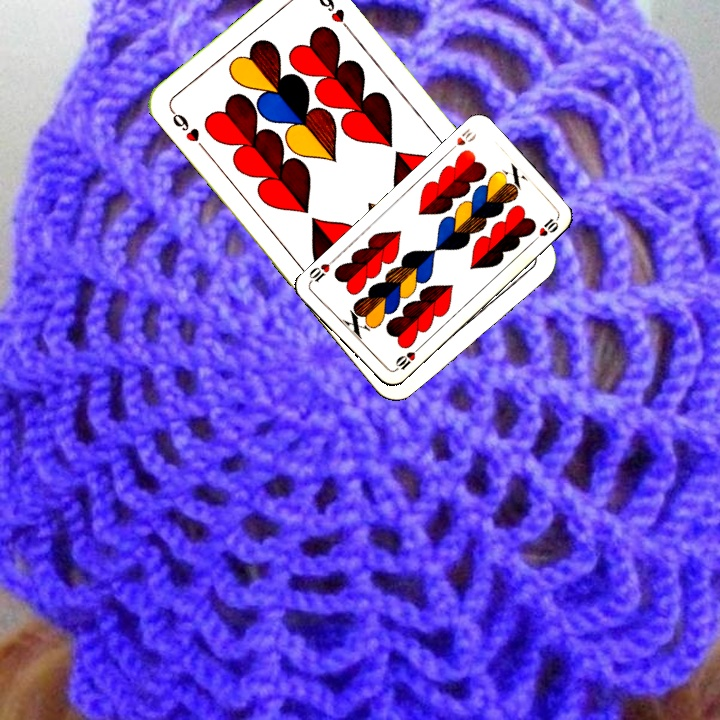H10: (444, 124, 479, 156), (390, 343, 423, 374)
H9: (166, 105, 209, 154)
